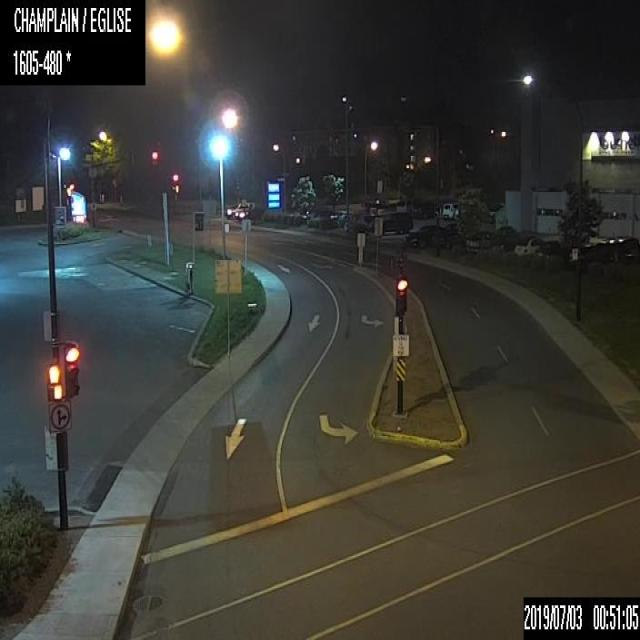vehicle: (404, 224, 450, 248), (368, 209, 414, 232), (464, 229, 499, 256), (534, 240, 568, 264), (514, 236, 548, 254), (225, 200, 254, 219), (234, 206, 256, 222), (442, 201, 459, 220), (395, 198, 413, 212)
